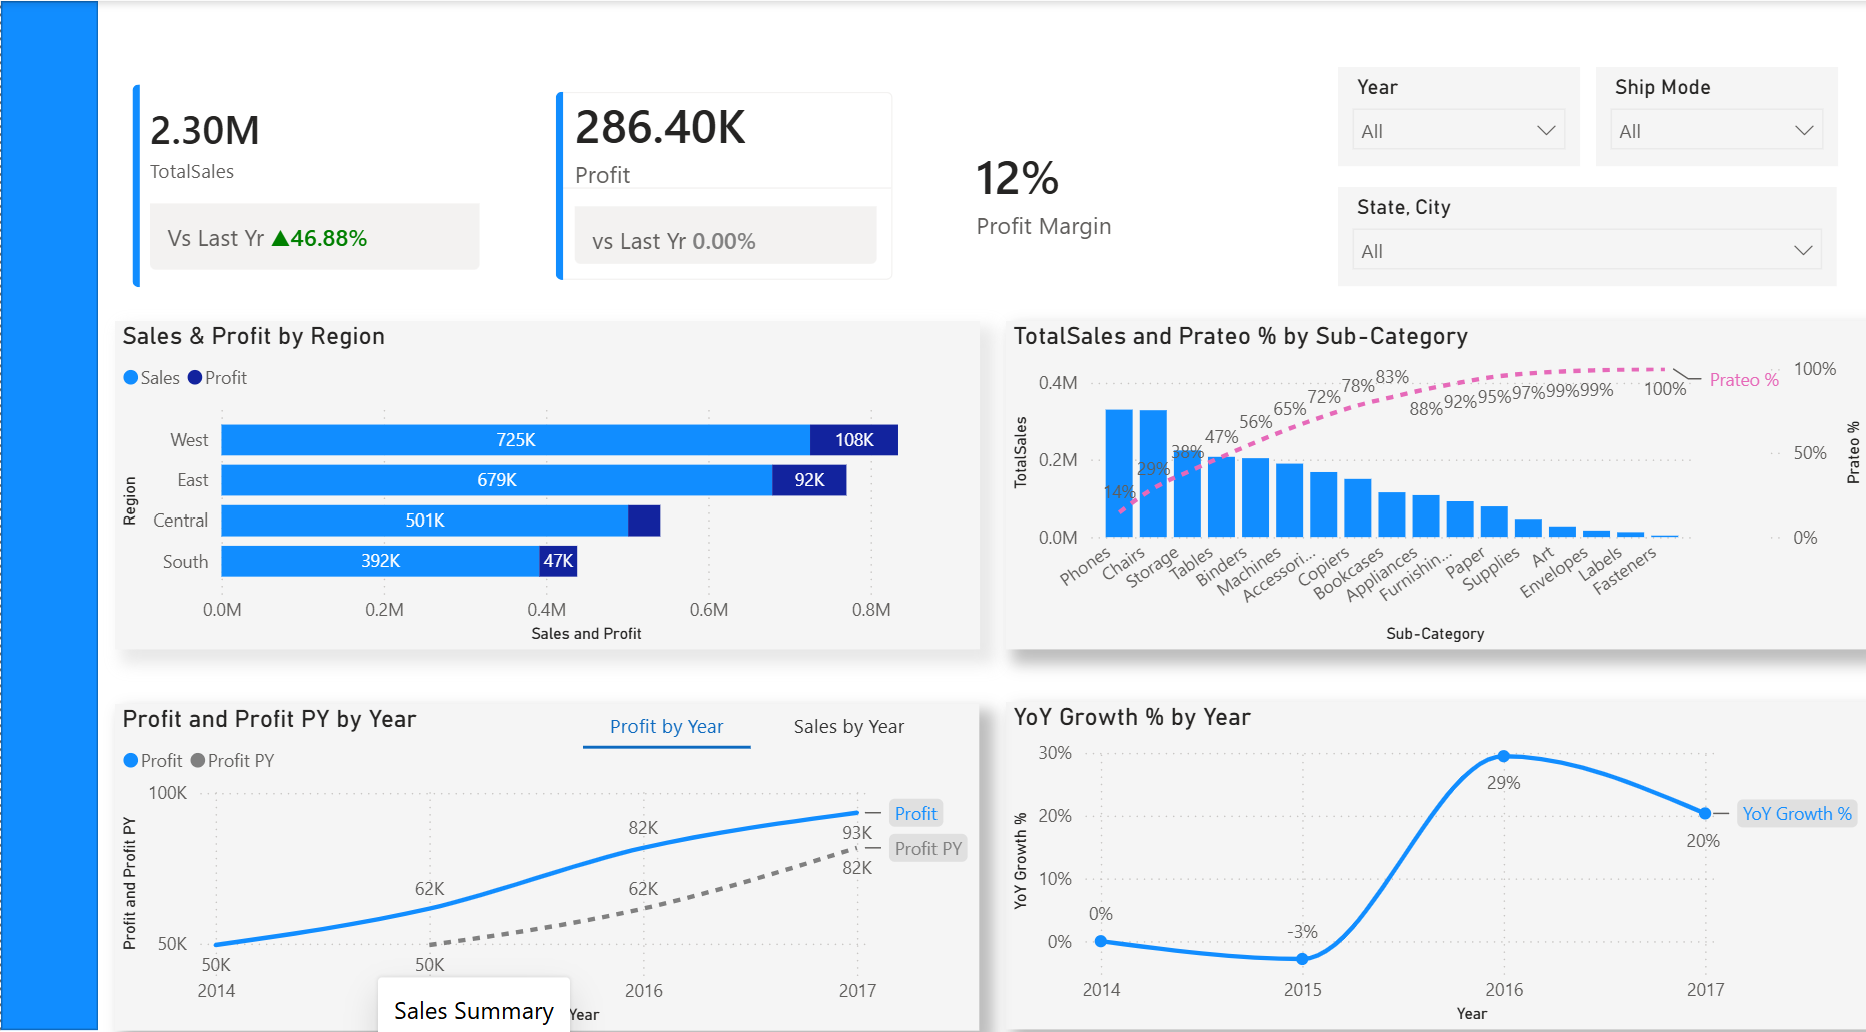

What the dashboard file says about the page in this screenshot:
{"tool":"powerbi","page":{"name":"Sales Summary","canvas":[1280,720],"ordinal":1},"visuals":[{"type":"cardVisual","fields":{"Data":["MTable.TotalSales"]},"box":[78.3,45.7,274.2,163.2],"z":0},{"type":"cardVisual","fields":{"Data":["MTable.Profit"]},"box":[363.6,45.7,265,163.2],"z":1000},{"type":"cardVisual","fields":{"Data":["MTable.Profit Margin"]},"box":[639.7,53.5,257.2,155.4],"z":2000},{"type":"barChart","title":"Sales & Profit by Region","fields":{"Category":["sales.Region"],"Y":["MTable.TotalSales","MTable.Profit"]},"box":[78.3,219.3,592.7,224.5],"z":3000},{"type":"lineChart","fields":{"Category":["calendartable.Year"],"Y":["MTable.YoY Growth %"]},"box":[688,480.4,592,224.5],"z":4000},{"type":"lineChart","fields":{"Category":["calendartable.Year"],"Y":["MTable.Profit","MTable.Profit PY"]},"box":[78.3,481,592,224],"z":5000},{"type":"bookmarkNavigator","box":[399.5,480.4,240.2,32.6],"z":7000},{"type":"lineClusteredColumnComboChart","fields":{"Y":["MTable.TotalSales"],"Category":["sales.Sub-Category"],"Y2":["MTable.Prateo %"]},"box":[688,219.3,592,224.5],"z":8000},{"type":"slicer","fields":{"Values":["calendartable.Year"]},"box":[916.5,45.7,165.8,67.9],"z":9000},{"type":"slicer","fields":{"Values":["sales.State","sales.City"]},"box":[916.5,127.9,342,67.9],"z":10000},{"type":"slicer","fields":{"Values":["sales.Ship Mode"]},"box":[1092.7,45.7,165.8,67.9],"z":11000},{"type":"shape","box":[0,0,66.6,705],"z":12000}]}

Visuals, with their boxes in screenshot pixels (x1, y1, x2, y2), scaled from the page's 1280x720 canvas onto the 1866x1032 screenshot:
cardVisual - MTable.TotalSales: box(114, 66, 514, 299)
cardVisual - MTable.Profit: box(530, 66, 916, 299)
cardVisual - MTable.Profit Margin: box(933, 77, 1308, 299)
"Sales & Profit by Region" barChart: box(114, 314, 978, 636)
lineChart - calendartable.Year x MTable.YoY Growth %: box(1003, 689, 1865, 1010)
lineChart - calendartable.Year x MTable.Profit: box(114, 689, 977, 1010)
bookmarkNavigator: box(582, 689, 933, 735)
lineClusteredColumnComboChart - MTable.TotalSales x sales.Sub-Category: box(1003, 314, 1865, 636)
slicer - calendartable.Year: box(1336, 66, 1578, 163)
slicer - sales.State x sales.City: box(1336, 183, 1835, 281)
slicer - sales.Ship Mode: box(1593, 66, 1835, 163)
shape: box(0, 0, 97, 1010)
